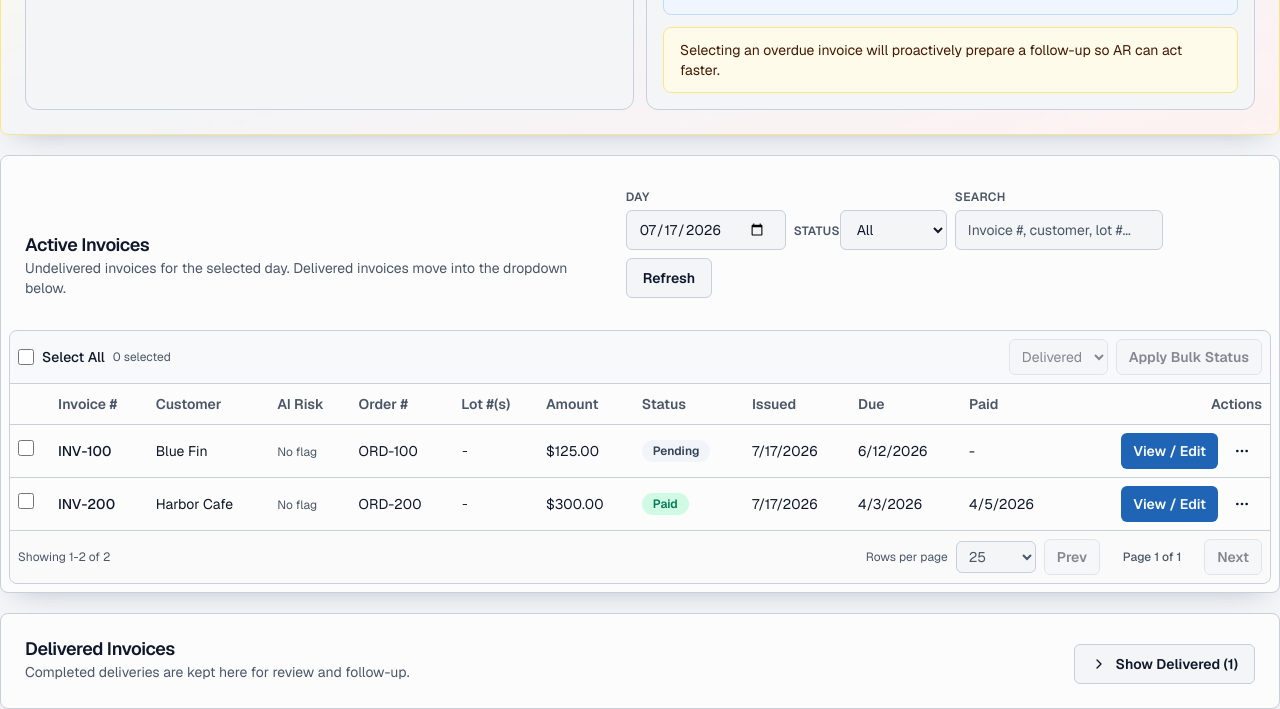
Test case: InvoicesPage › marks an invoice paid from the invoice table for check payments
(page scrolled)
Expected: the text "INV-100" is shown, [50,424,148,477]
Step 1. Click the button named "Actions" in the row of "INV-100" → (1242, 450), box [1222,432,1262,468]
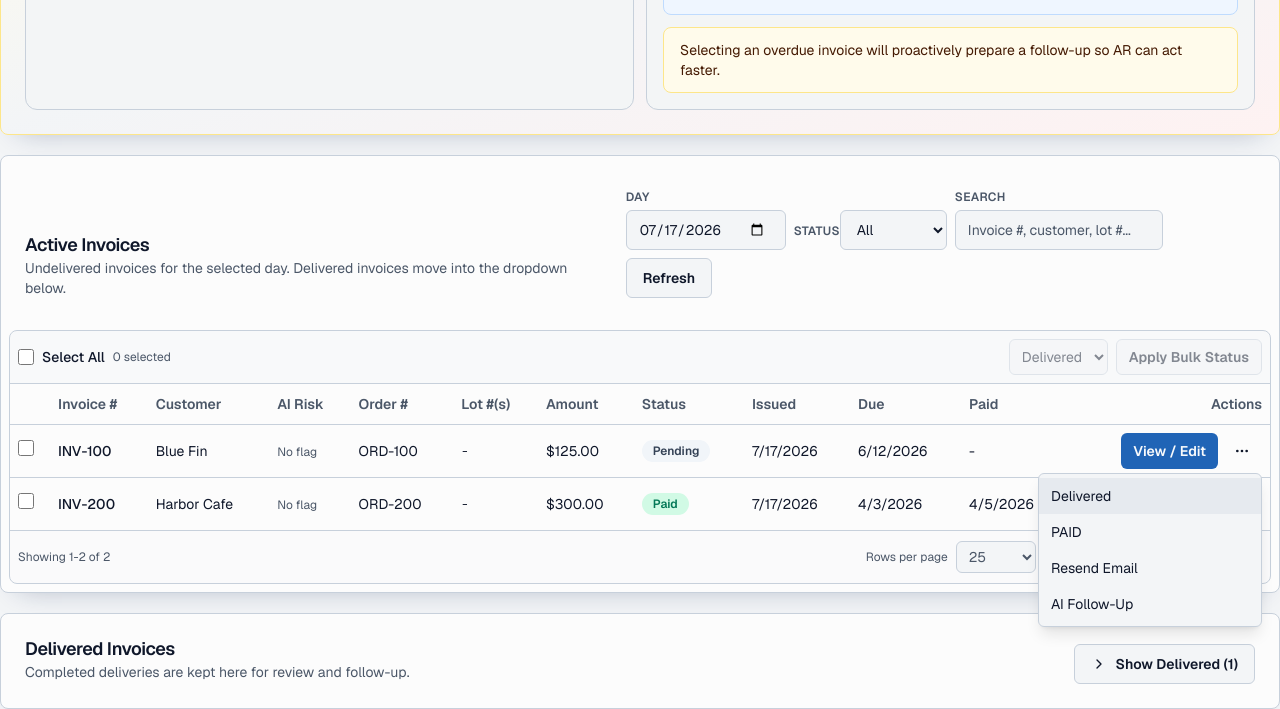
Step 2. Click the menu item "PAID" → (1150, 532), box [1039,514,1261,550]
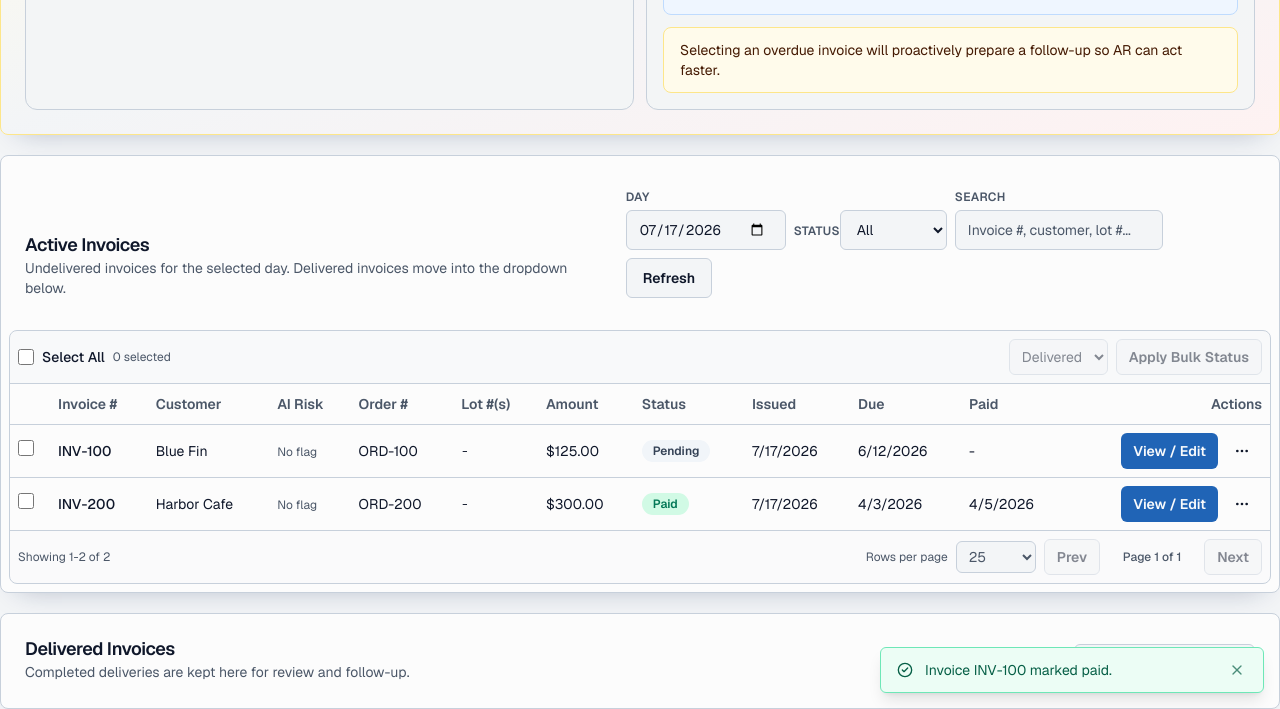
Now the text "Invoice INV-100 marked paid." is shown, box [925,661,1112,679]
